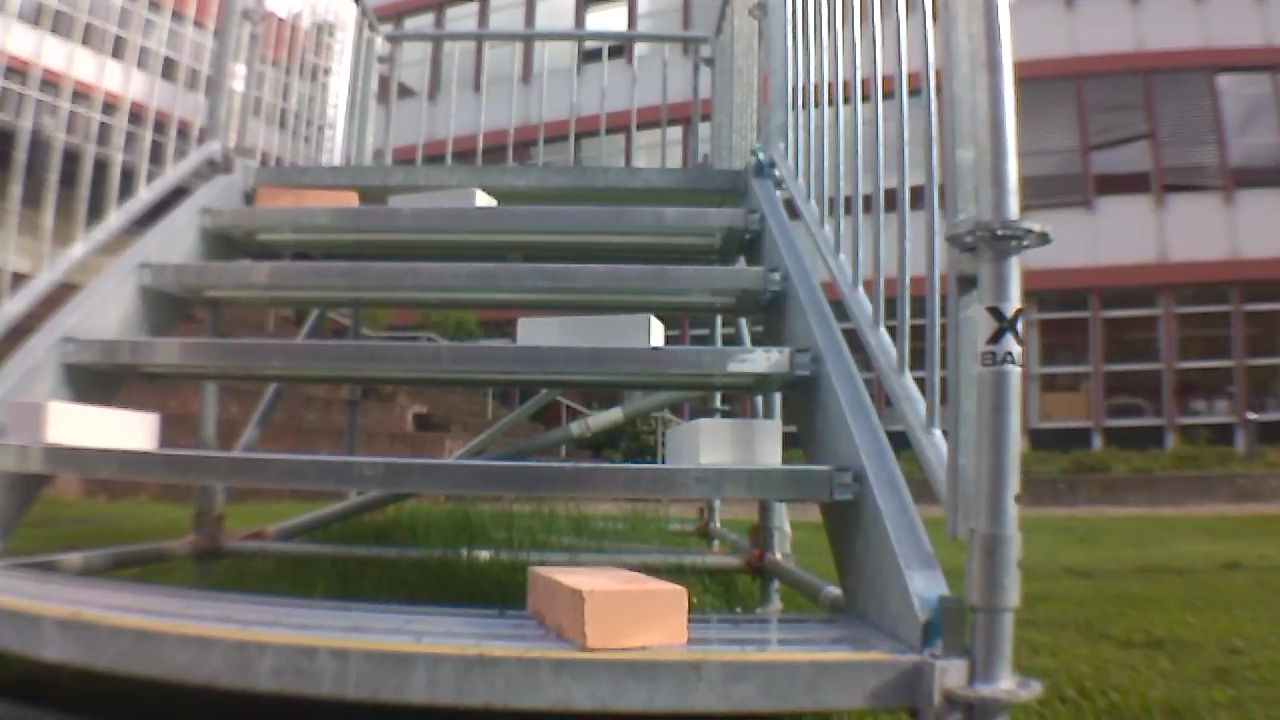brick: (528, 567, 687, 648), (8, 401, 157, 449), (666, 419, 781, 464), (517, 315, 664, 346), (390, 187, 496, 207), (258, 189, 358, 207)
edge: (3, 606, 922, 708), (2, 448, 861, 501), (65, 341, 824, 372), (142, 262, 784, 290), (203, 206, 767, 231), (252, 165, 745, 187)
stairs: (4, 3, 1043, 715)
steps: (6, 151, 935, 717)
